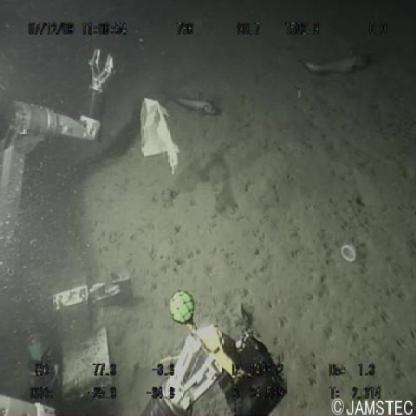Bio: (296, 51, 380, 76), (170, 89, 223, 113)
Rov: (1, 43, 296, 416)
Rác: (136, 92, 189, 180), (336, 242, 361, 268)
